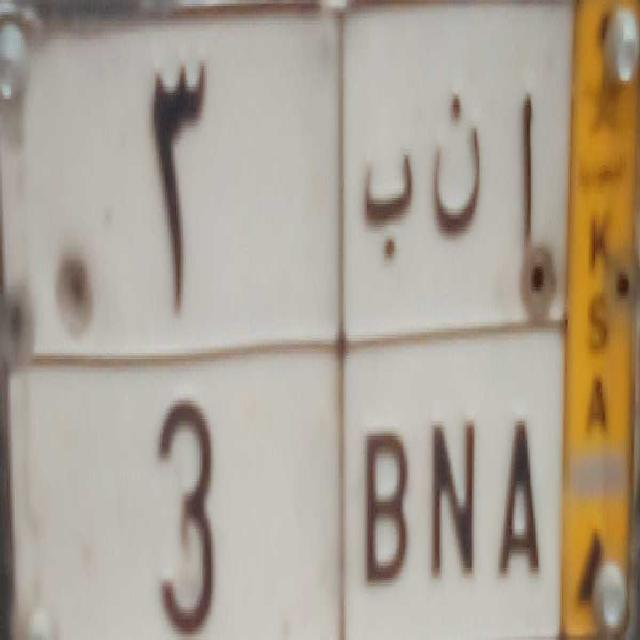license_plate: (15, 338, 559, 640)
